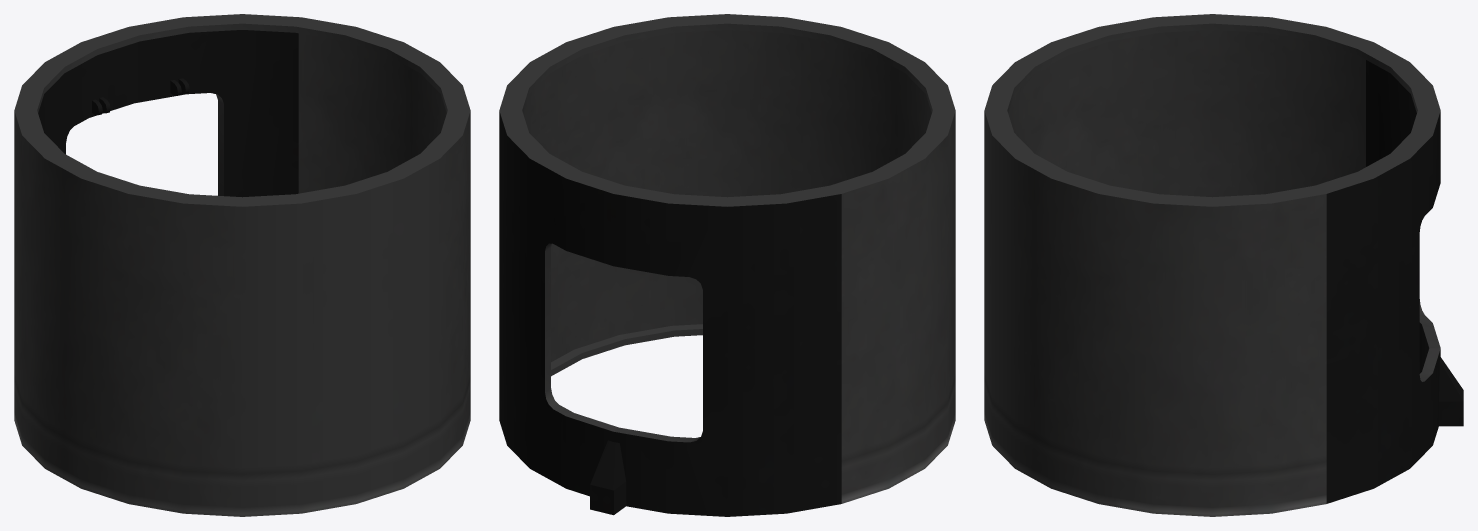
Rendered from car.obj.
The picture shows the model from 3 angles, left to right: view 1: azimuth 30°, elevation 25°; view 2: azimuth 150°, elevation 25°; view 3: azimuth 270°, elevation 25°; orthographic projection.
Visible parts, largest first — view 1: 1; view 2: 1; view 3: 1.
Part boxes in pixels (bbox=[...]): 1: bbox=[14, 14, 470, 516]; 1: bbox=[499, 14, 955, 516]; 1: bbox=[984, 14, 1463, 516].
Bounding box in the file's own units: 2.5 × 1.88 × 2.62.
